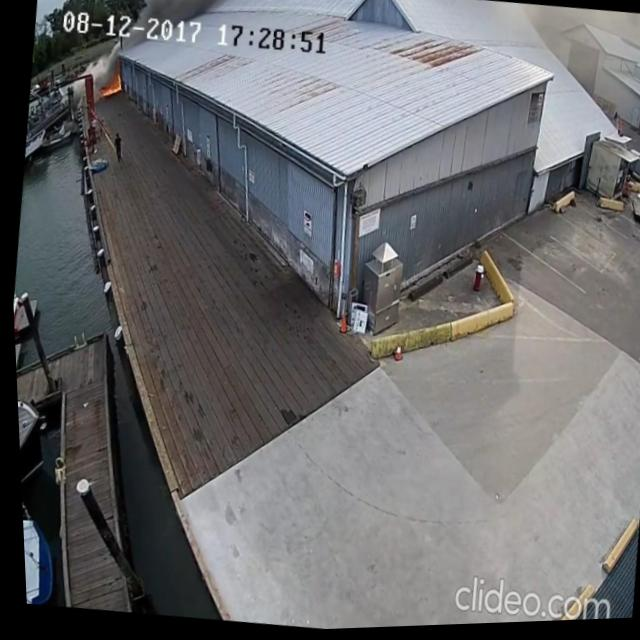fire: (98, 81, 123, 102), (112, 71, 124, 94)
